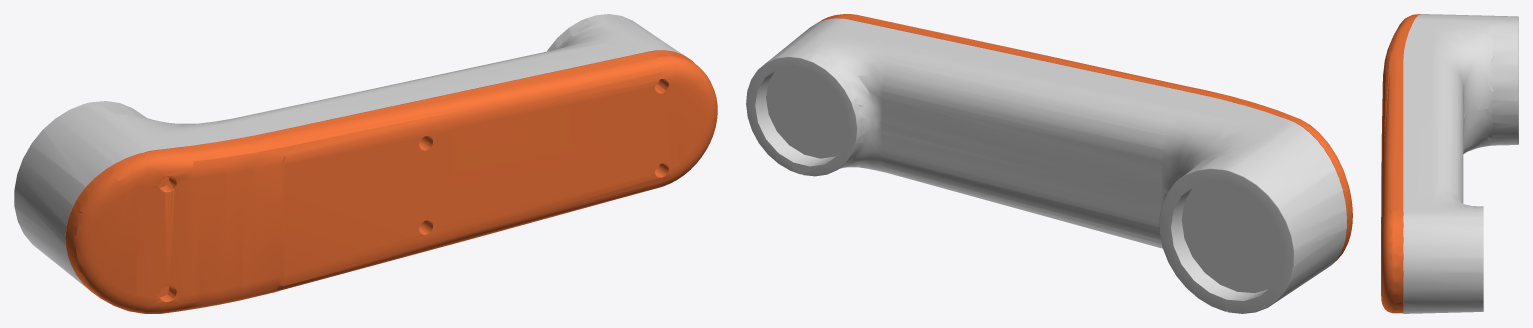
The picture shows the model from 3 angles, left to right: view 1: azimuth 30°, elevation 25°; view 2: azimuth 150°, elevation 25°; view 3: azimuth 270°, elevation 25°; orthographic projection. The views are drawn at different scales.
Visible parts, largest first — view 1: null; view 2: null; view 3: null.
Boxes of the visible parts, x1,y1,x2,y2 form: null: (14,14,717,313); null: (746,14,1352,313); null: (1381,14,1518,313).
Bounding box in the file's own units: 0.3089 × 0.0761 × 0.0783.
